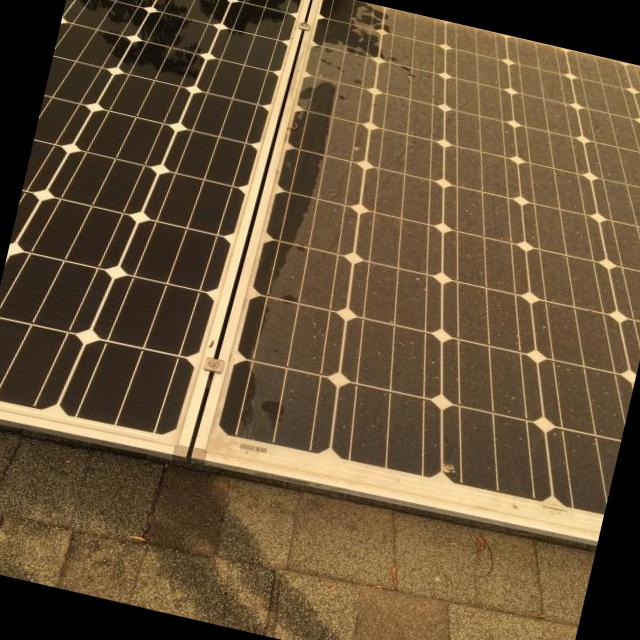faulty: (210, 0, 640, 520)
no faulty: (0, 0, 297, 443)
